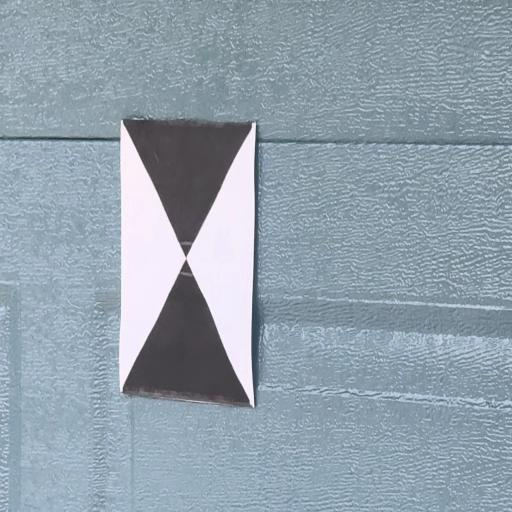target: (121, 120, 256, 399)
